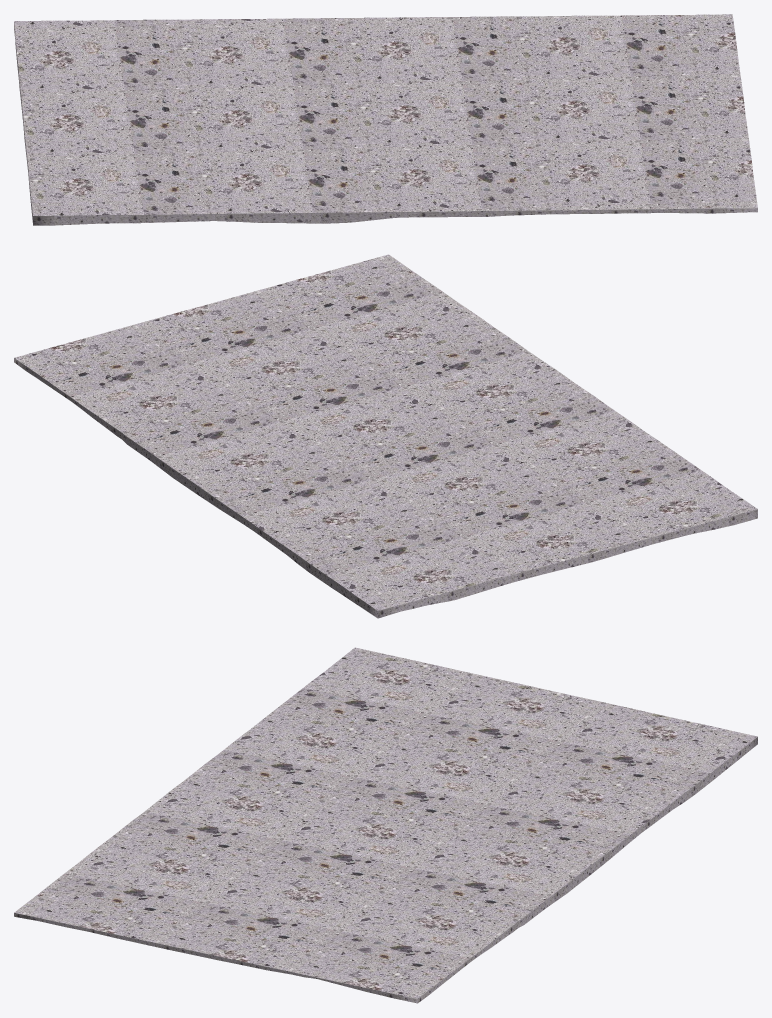
The picture shows the model from 3 angles, top to bottom: view 1: azimuth 30°, elevation 25°; view 2: azimuth 150°, elevation 25°; view 3: azimuth 270°, elevation 25°; orthographic projection. The views are drawn at different scales.
Visible parts, largest first — view 1: N; view 2: N; view 3: N.
Part boxes in pixels (box(x1,y1,x2,y2)): N: box(14, 14, 757, 225); N: box(14, 254, 757, 618); N: box(14, 647, 757, 1003).
Size of the model in its own units: 11149 by 191 by 9970.
1 material, 1 textured.
